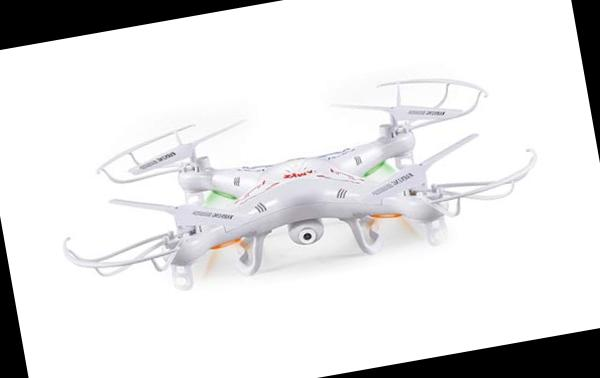drone: (30, 41, 559, 331)
